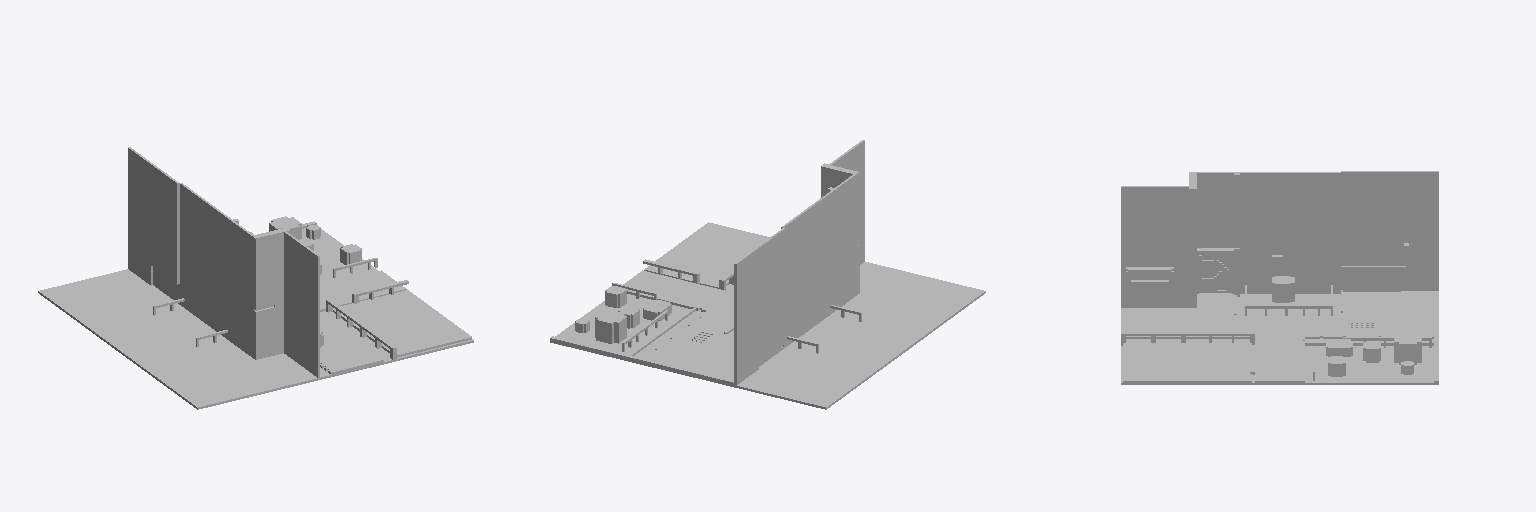
Rendered from Sci-Fi Level 3.obj.
3 renders of one model, left to right at view 1: azimuth 30°, elevation 25°; view 2: azimuth 150°, elevation 25°; view 3: azimuth 270°, elevation 25°, orthographic.
Visible parts, largest first — view 1: object 1; view 2: object 1; view 3: object 1.
Part boxes in pixels (x1,y1,x2,y2): object 1: (38, 147, 473, 409); object 1: (550, 140, 985, 409); object 1: (1121, 171, 1438, 384).
Bounding box in the file's own units: 12.6 × 5.4 × 12.6.